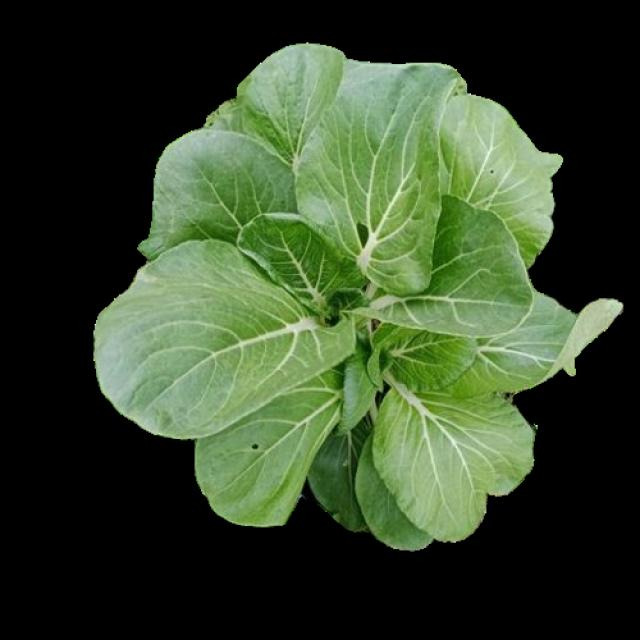healthy: (96, 39, 573, 546)
mature: (99, 42, 576, 549)
